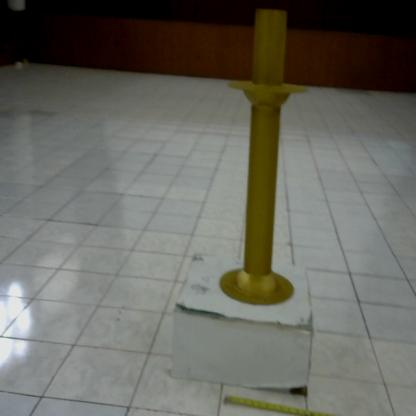pole: (214, 1, 316, 311)
